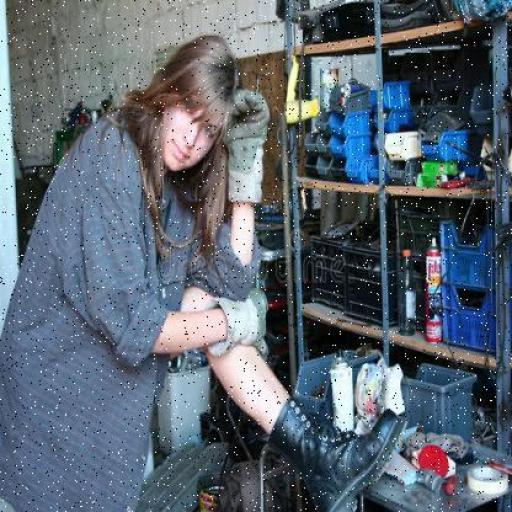safety_shoe: (272, 384, 400, 511)
